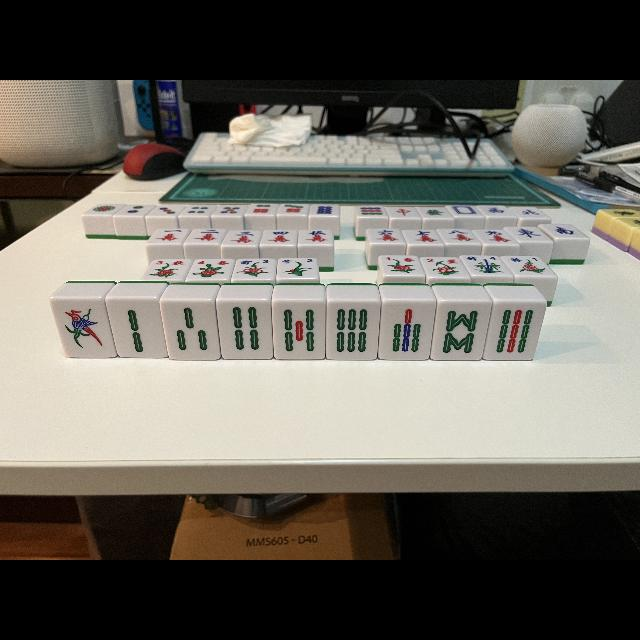b1: (50, 298, 116, 358)
b2: (106, 298, 166, 358)
b3: (160, 298, 220, 359)
b4: (216, 301, 274, 359)
b5: (272, 300, 324, 360)
b6: (327, 300, 377, 360)
b7: (381, 300, 431, 360)
b8: (434, 301, 486, 361)
b9: (486, 302, 542, 361)
